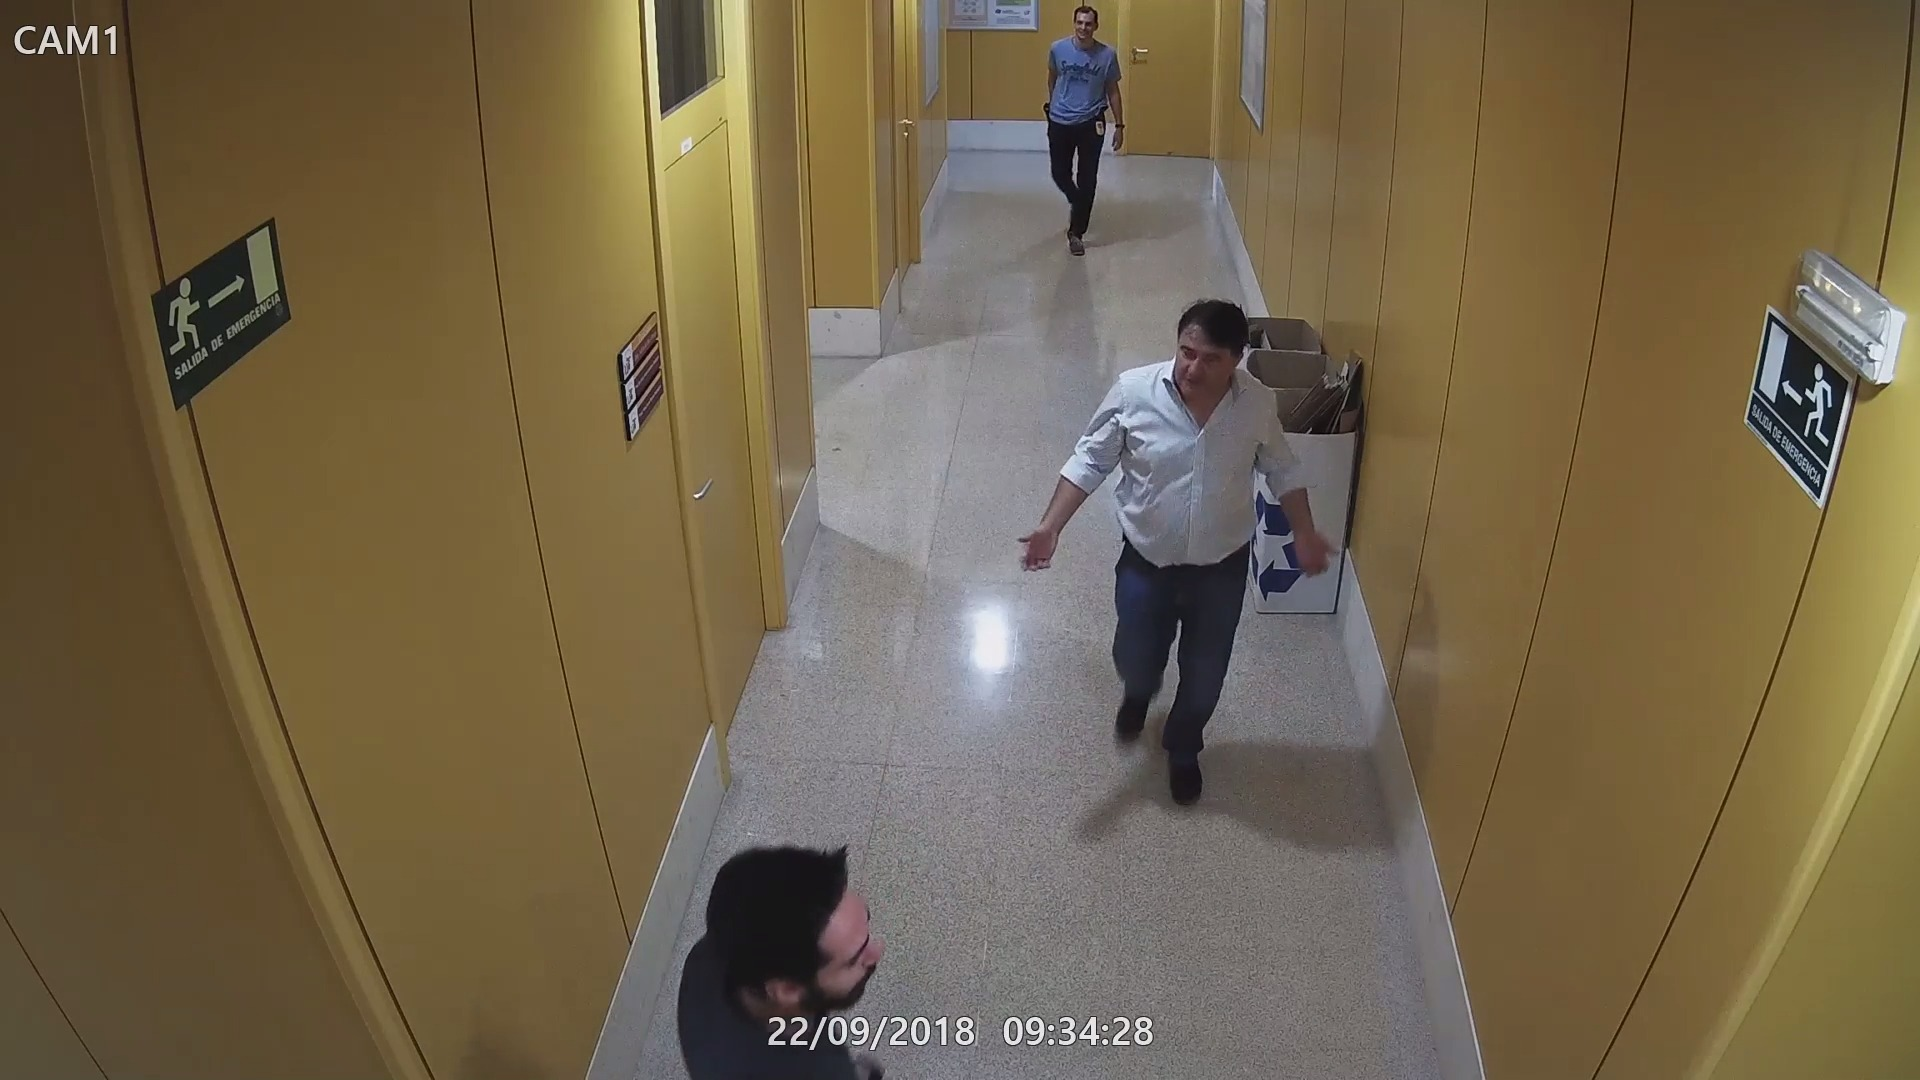Handgun: (1038, 98, 1052, 123)
